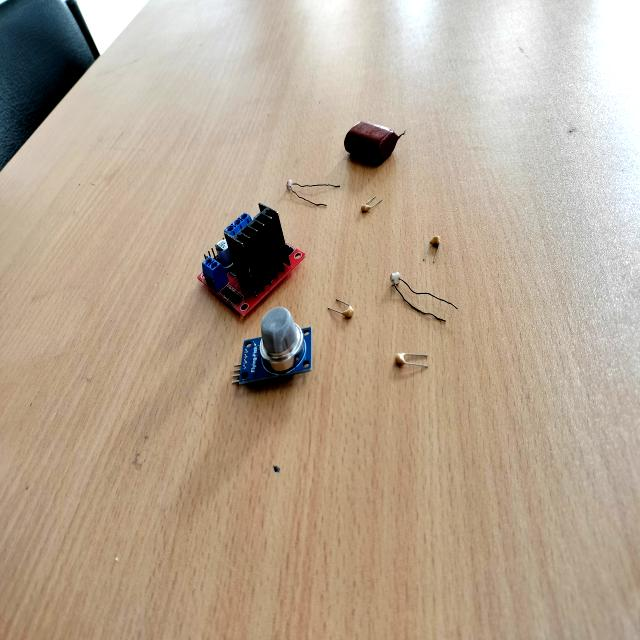capacitor: (345, 123, 397, 167), (429, 237, 439, 255), (342, 306, 353, 320), (361, 206, 370, 213)
